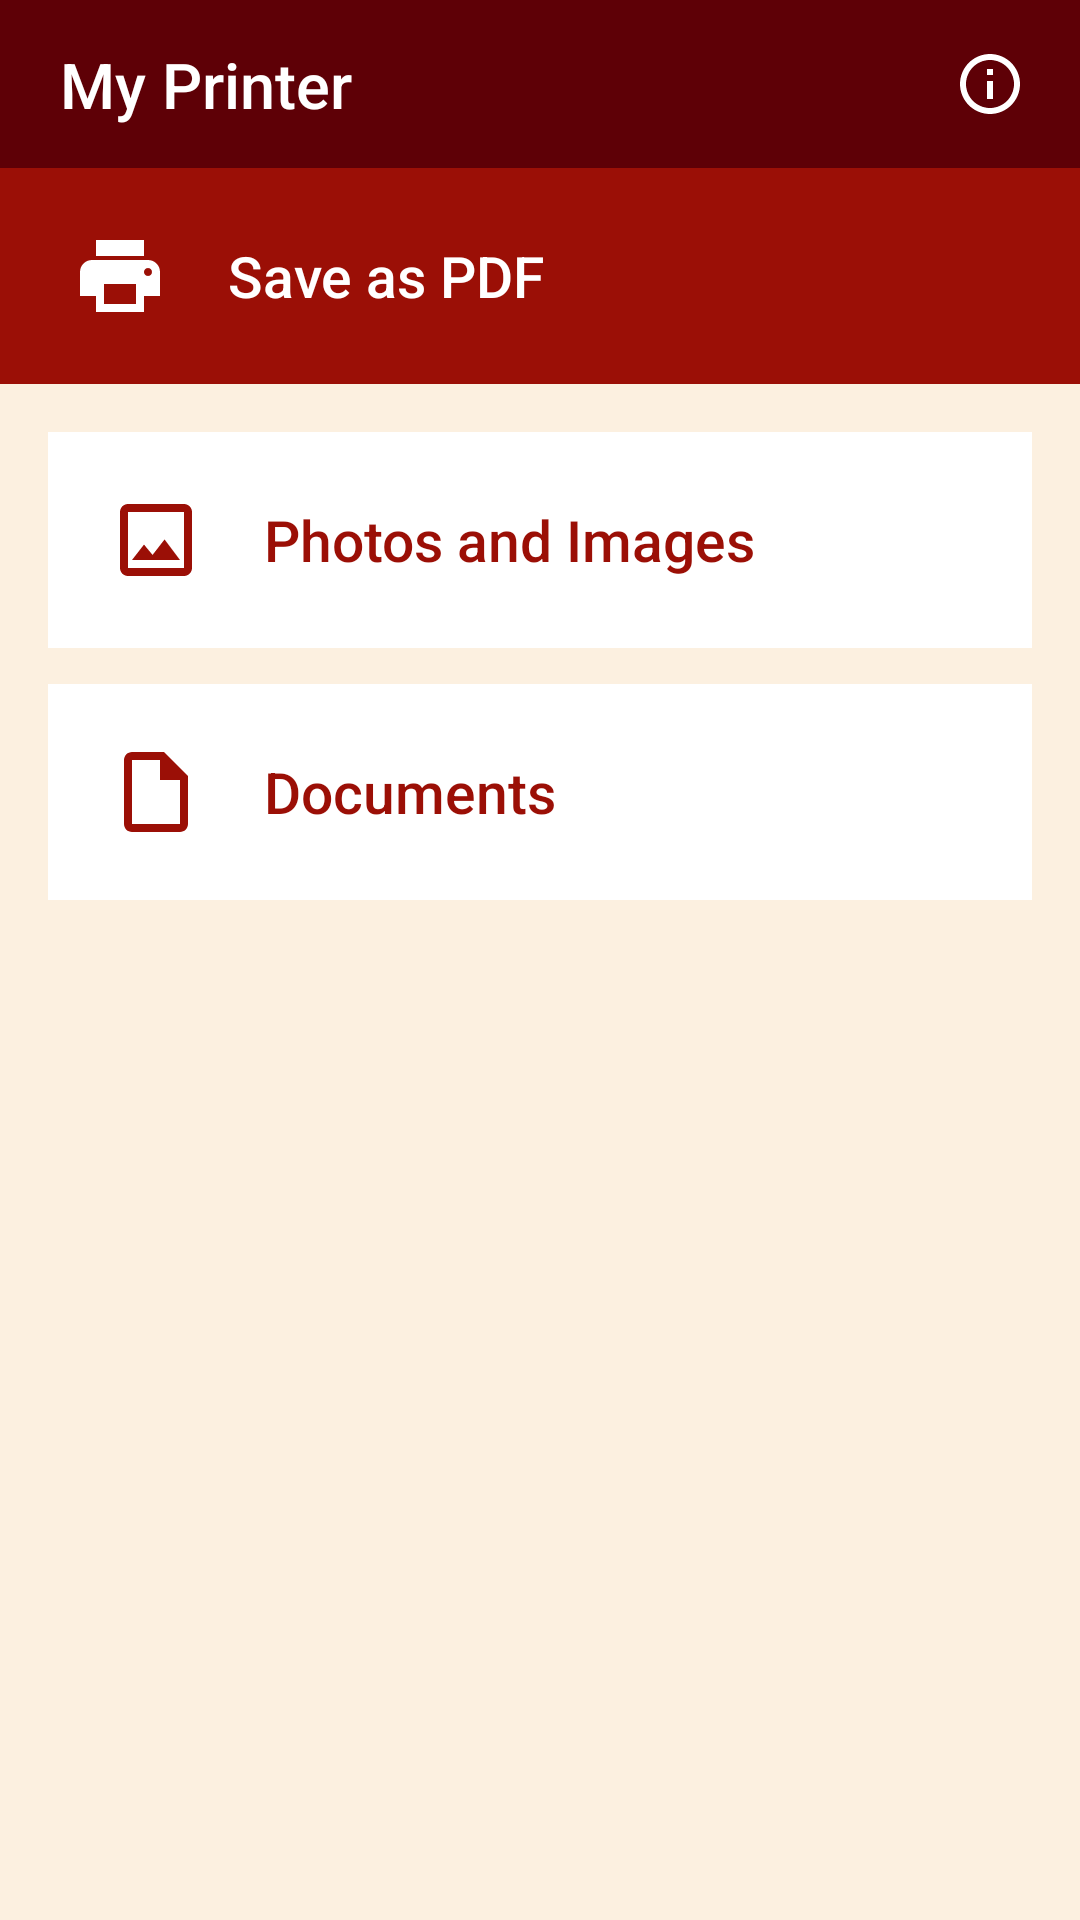

Screen size 1080px×1920px. Icon name, then its box in pixels as (x1, y1, x2, y2):
App Info: (960, 54, 1020, 114)
Document Icon: (124, 752, 188, 832)
